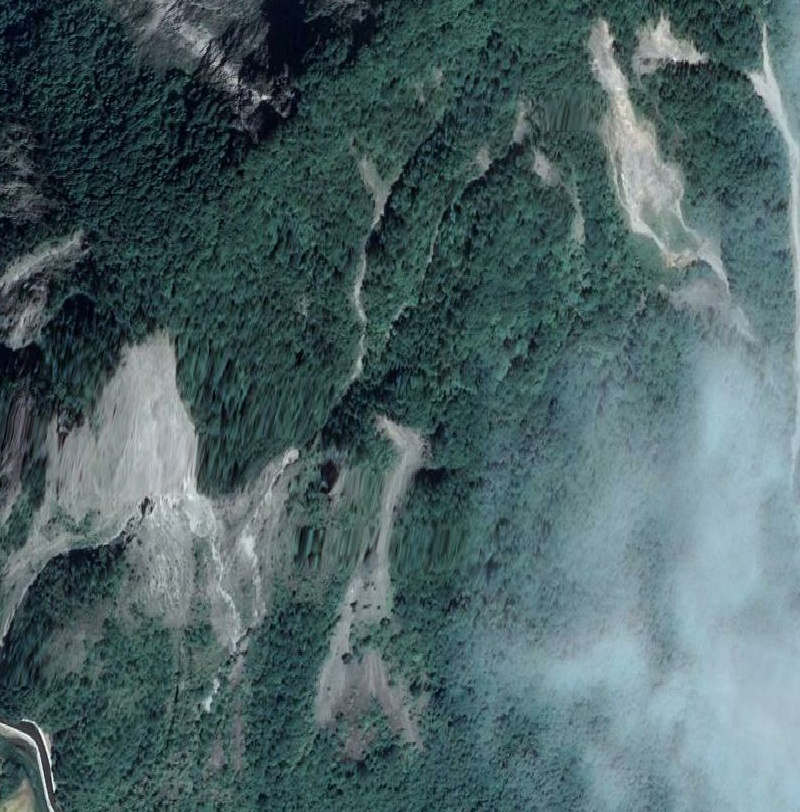slope: (32, 321, 297, 658), (299, 410, 433, 773), (582, 18, 730, 284), (639, 10, 715, 76)
